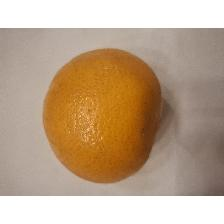Orange: (41, 46, 168, 186)
